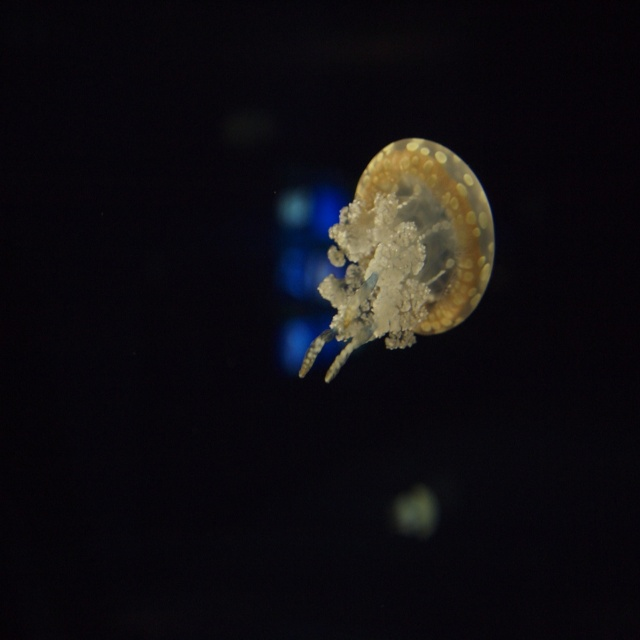Jellyfish: (296, 135, 495, 387)
